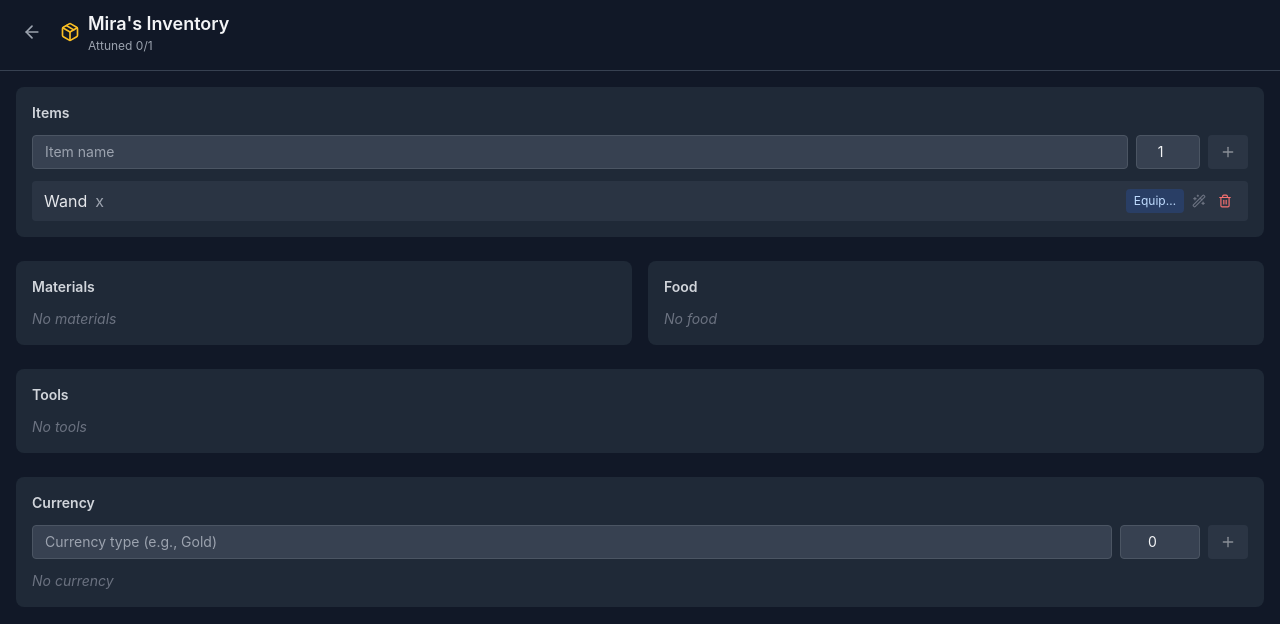
Test: CharacterInventoryPanel attunement › marks a mundane item as magical through the real store
Click the button named "Mark as magical: Wand" at x=1199, y=201, box x1=1188 y1=190 x2=1210 y2=212
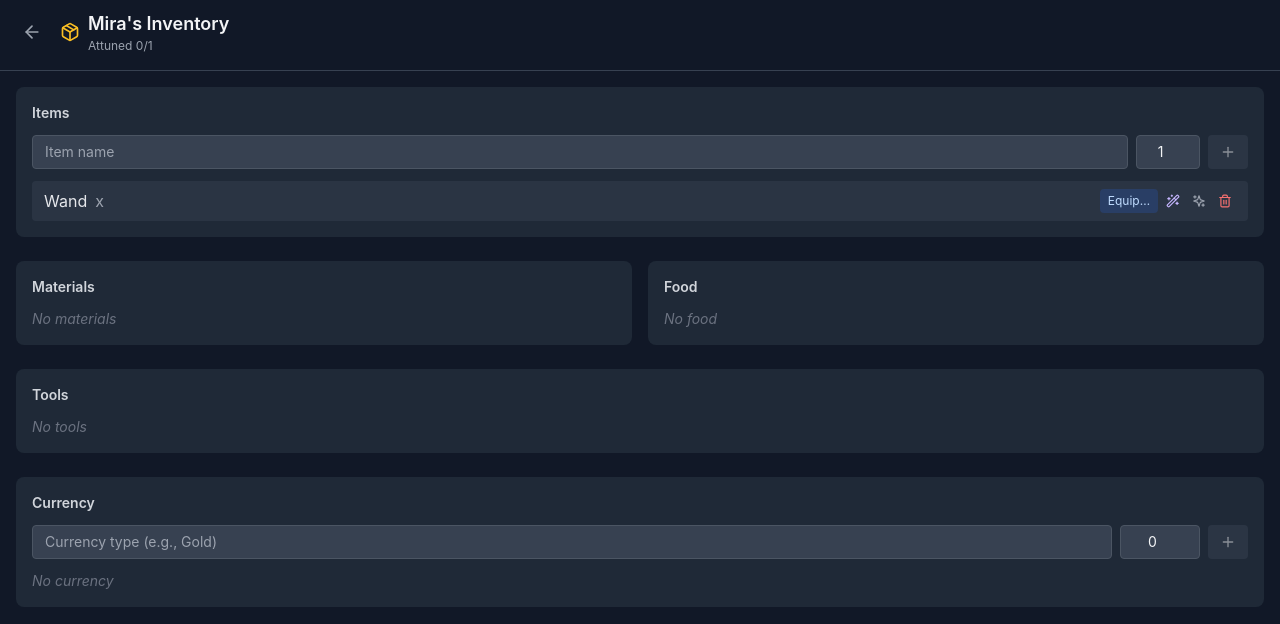
Check: the button named "Attune: Wand" is shown, box x1=1188 y1=190 x2=1210 y2=212
